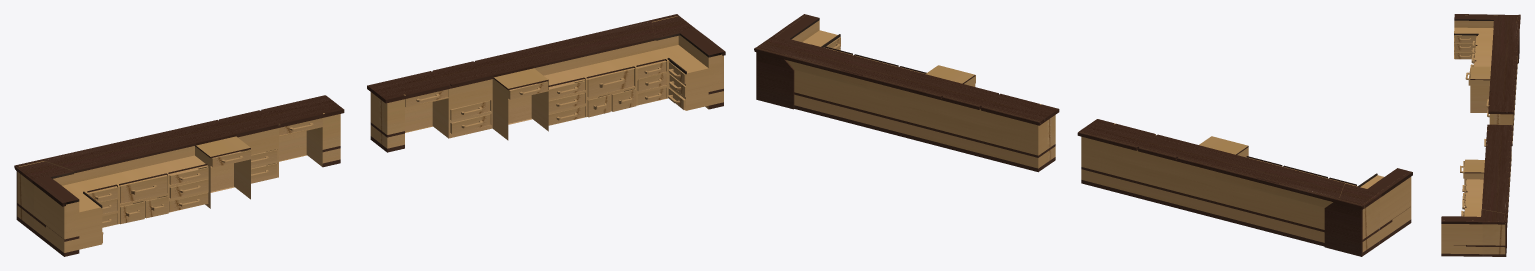
Rendered from Reception_desk.fbx.
The picture shows the model from 3 angles, left to right: view 1: azimuth 30°, elevation 25°; view 2: azimuth 150°, elevation 25°; view 3: azimuth 270°, elevation 25°; orthographic projection. The views are drawn at different scales.
Visible parts, largest first — view 1: Cube.003; view 2: Cube.003; view 3: Cube.003.
Part boxes in pixels (x1=…): Cube.003: x1=14, y1=14, x2=725, y2=256; Cube.003: x1=754, y1=14, x2=1412, y2=256; Cube.003: x1=1441, y1=14, x2=1520, y2=256.
Size of the model in its own units: 8683 by 689 by 1402.
2 materials, 2 textured.
